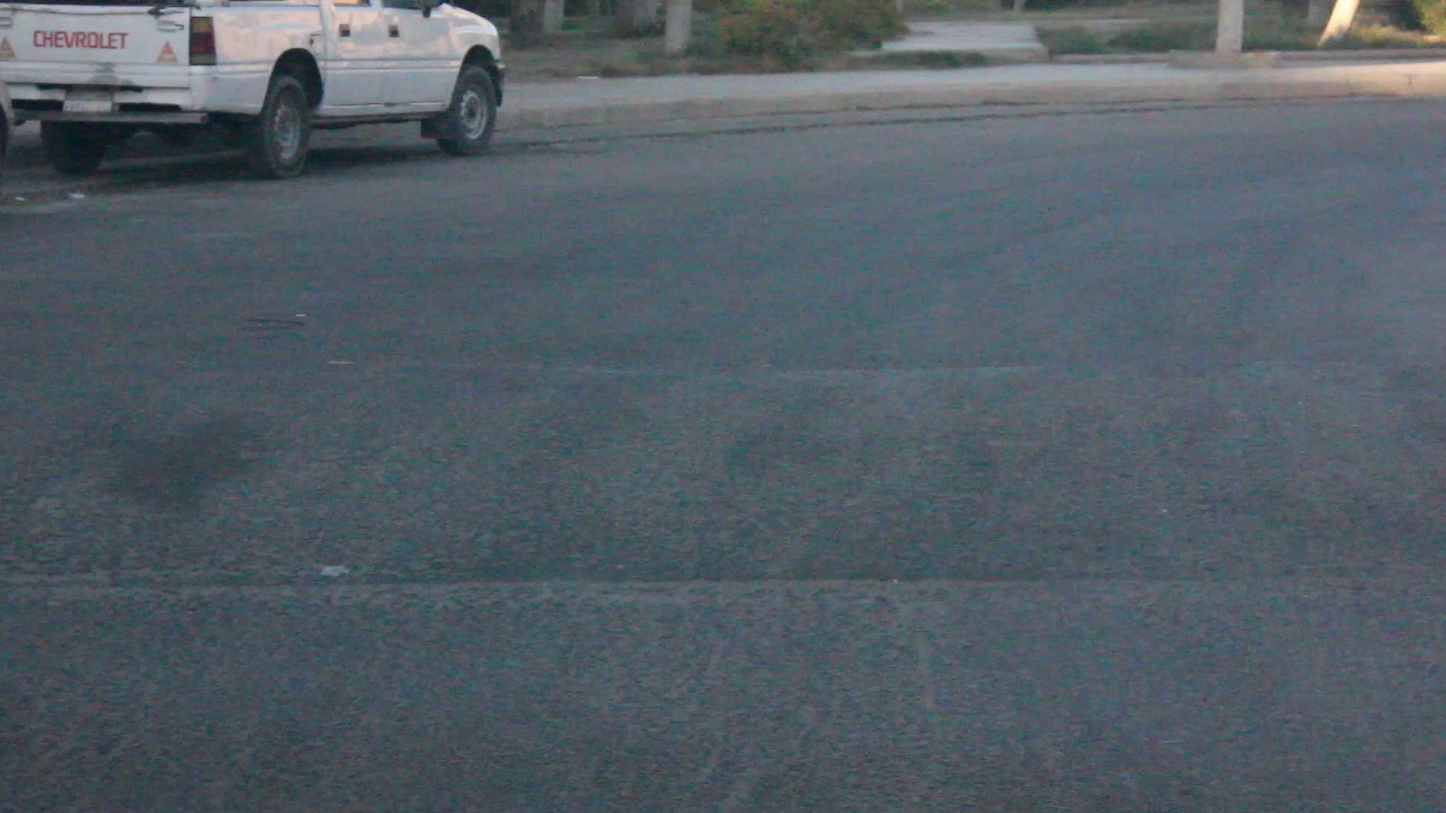Bump: (0, 348, 1423, 572)
